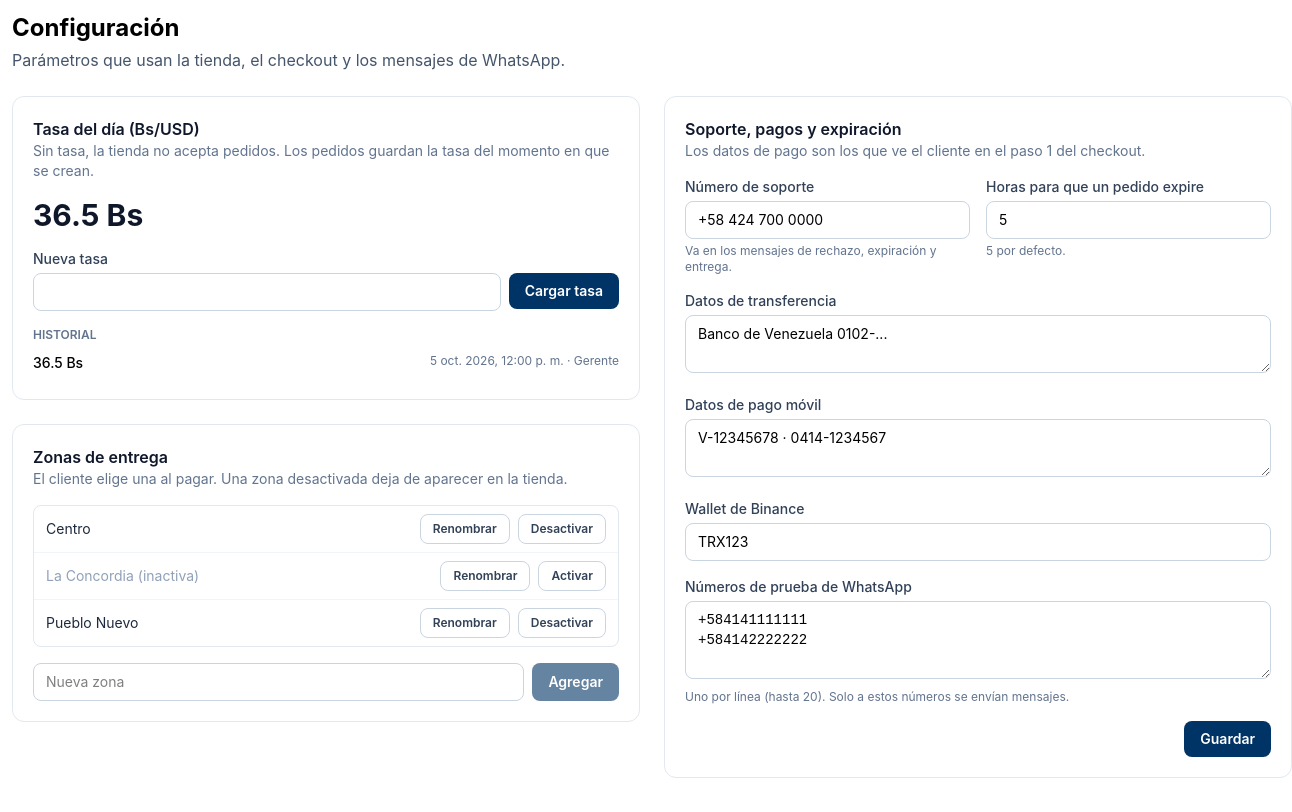
it: Configuracion: tasa del día › si la API rechaza la tasa, muestra su mensaje en el campo
The width and height of the screenshot is (1292, 812).
Type "5000" into the number field labelled "Nueva tasa". click: [267, 292]
box: left=33, top=273, right=501, bottom=311
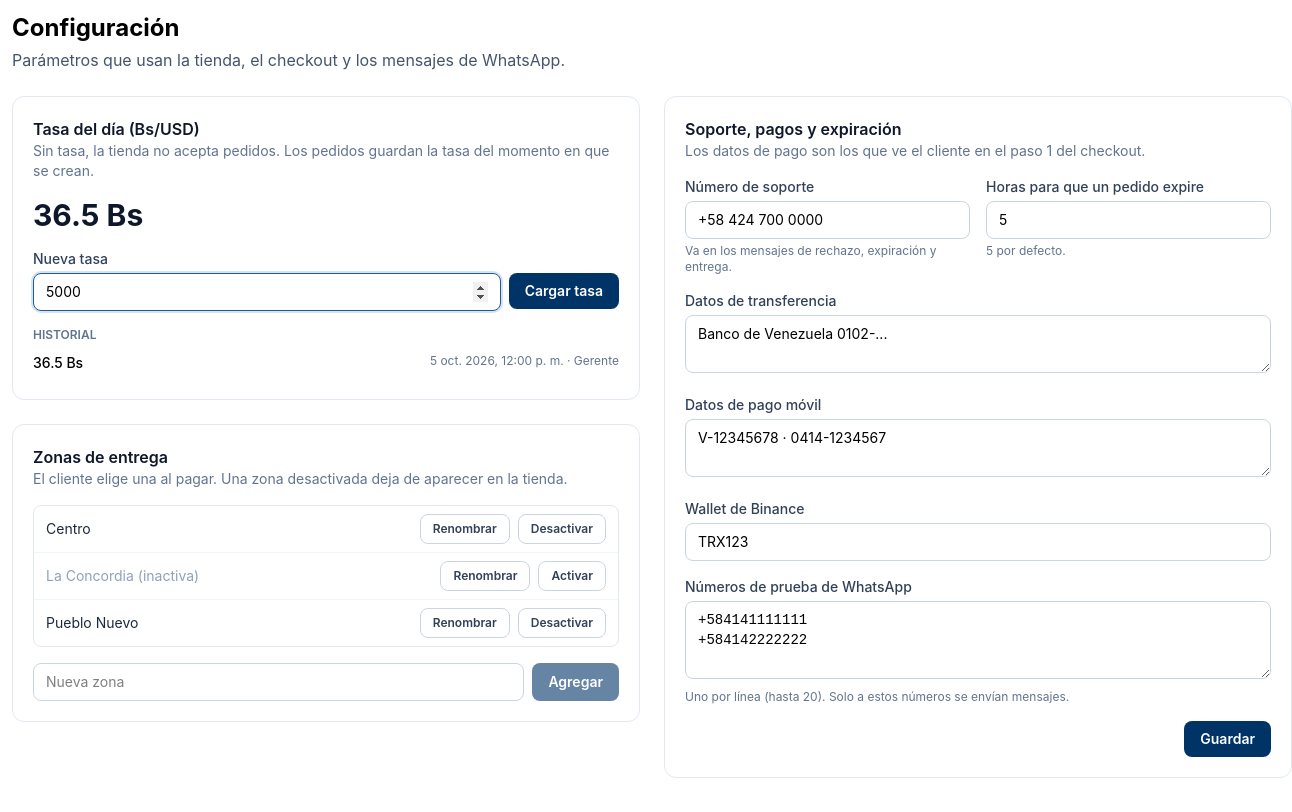
Click the button "Cargar tasa". click: [564, 291]
box: left=509, top=273, right=619, bottom=309
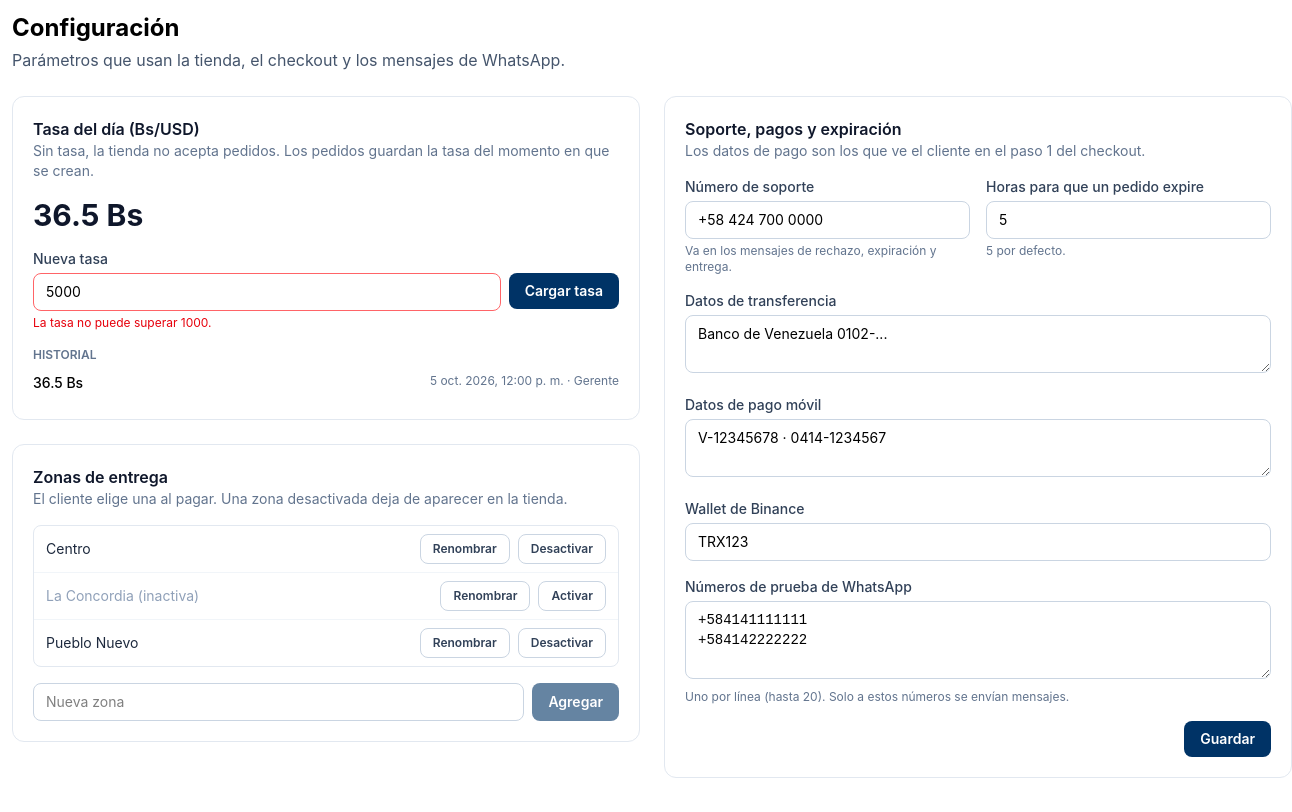
Result: the text "La tasa no puede superar 1000." is shown at left=33, top=315, right=212, bottom=330
